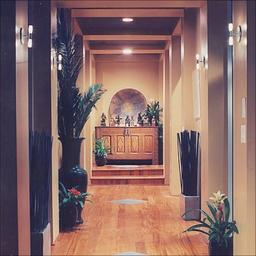Escaleras: (94, 169, 166, 186)
Matera: (56, 29, 89, 198), (30, 125, 53, 253), (187, 194, 236, 254), (176, 130, 201, 221), (62, 184, 85, 230), (95, 140, 111, 168)
